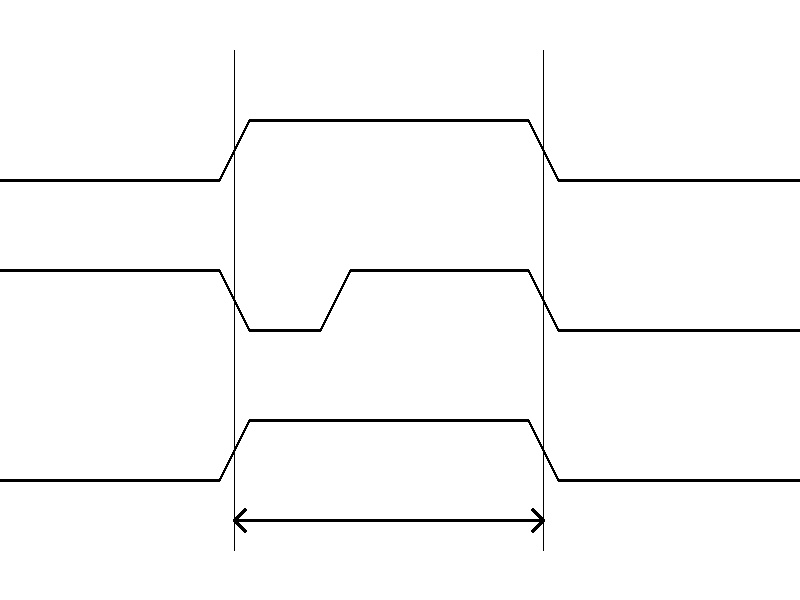double_arrow: (234, 505, 543, 535)
